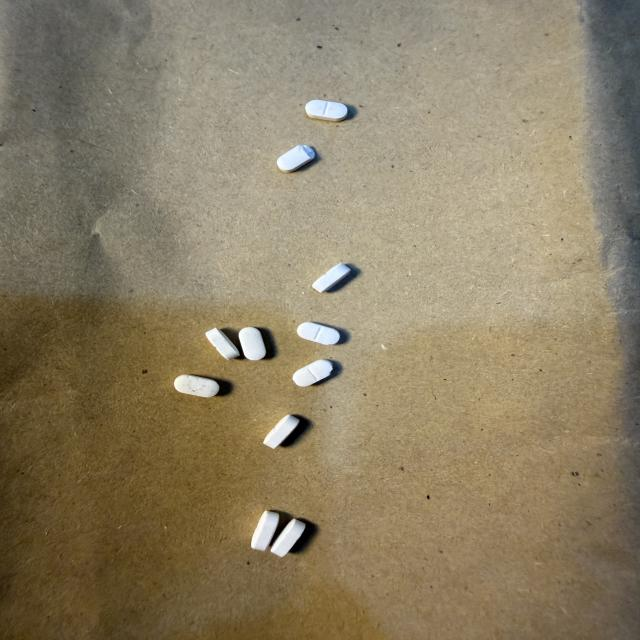pill: (271, 519, 305, 557), (264, 415, 299, 448), (252, 511, 279, 551), (313, 263, 350, 292), (277, 145, 315, 172), (293, 360, 332, 386), (174, 375, 219, 397), (206, 329, 239, 359), (297, 322, 340, 345), (239, 327, 266, 360), (306, 100, 347, 121)
